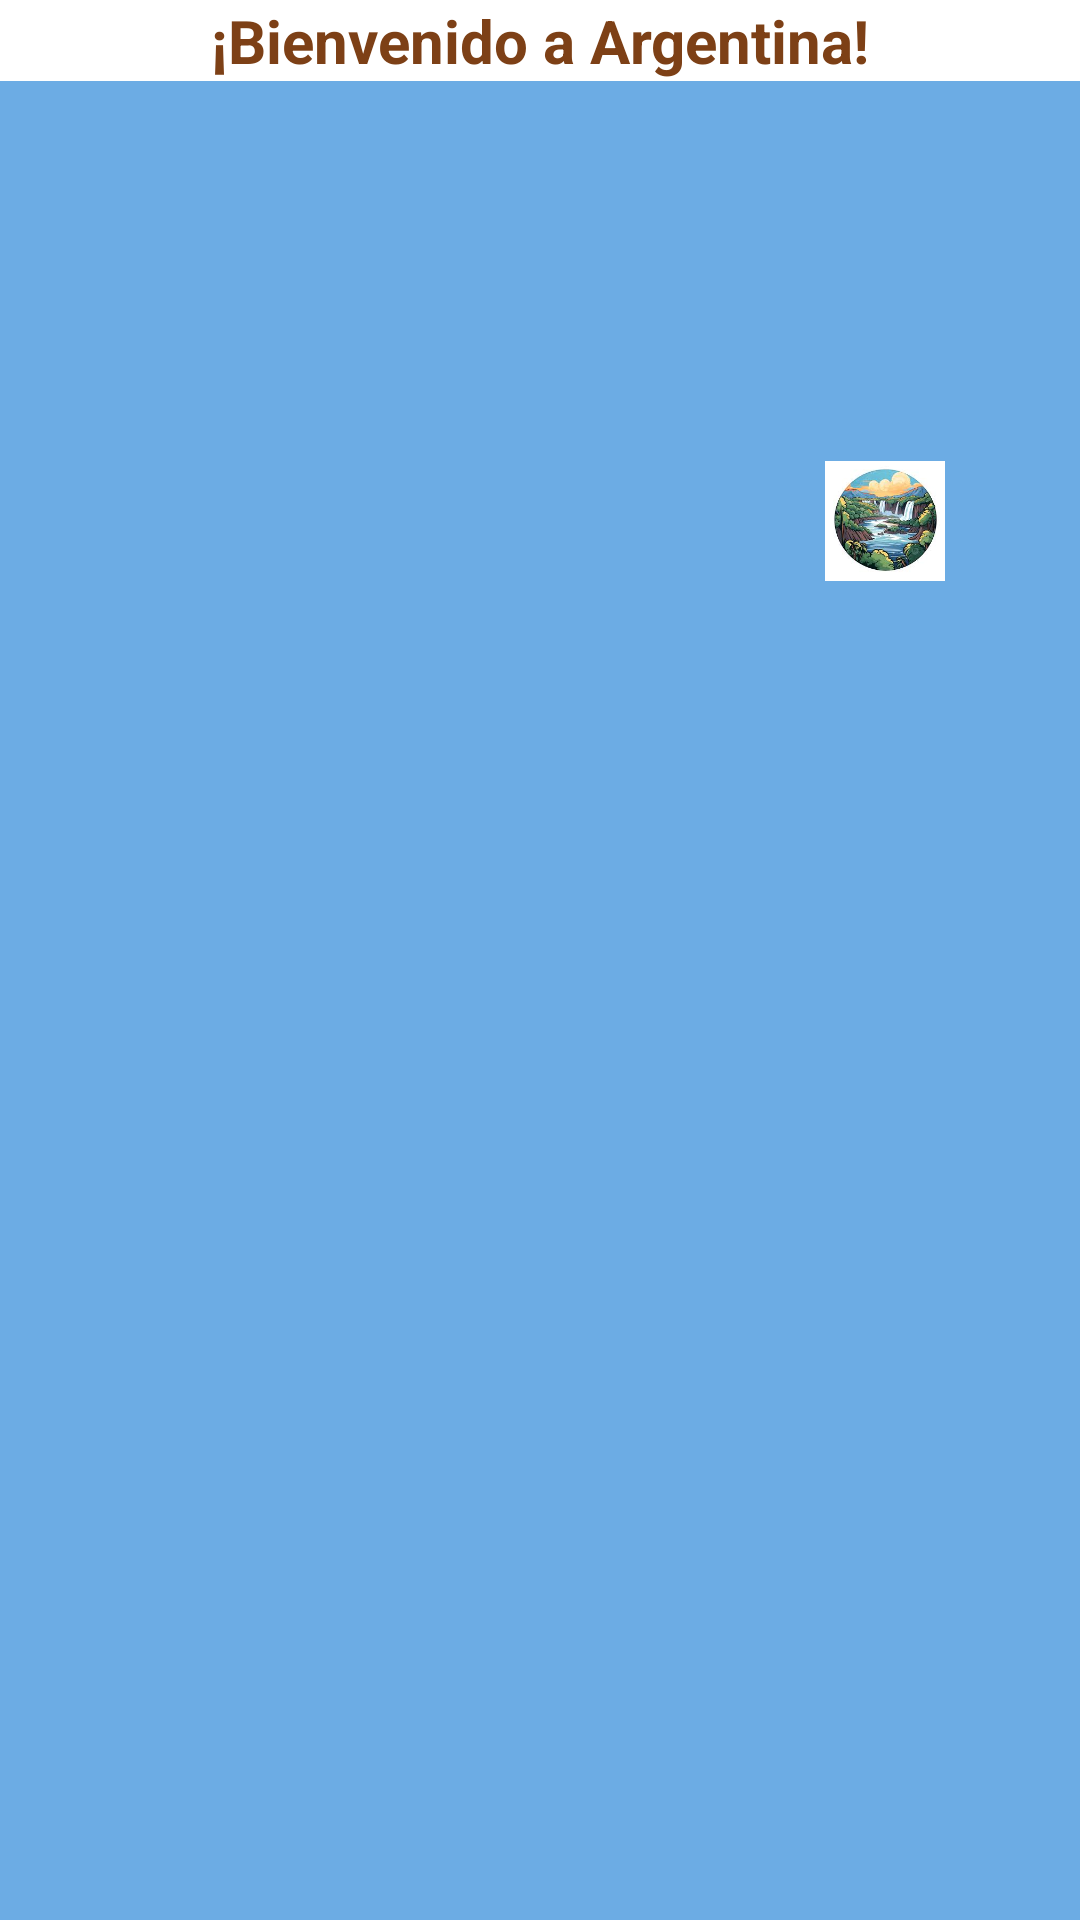

Icon bounding boxes for this 1080px x 1920px phone screenshot, format bbox(x1, y1, x2, y2):
cataratas: bbox(825, 461, 945, 581)
